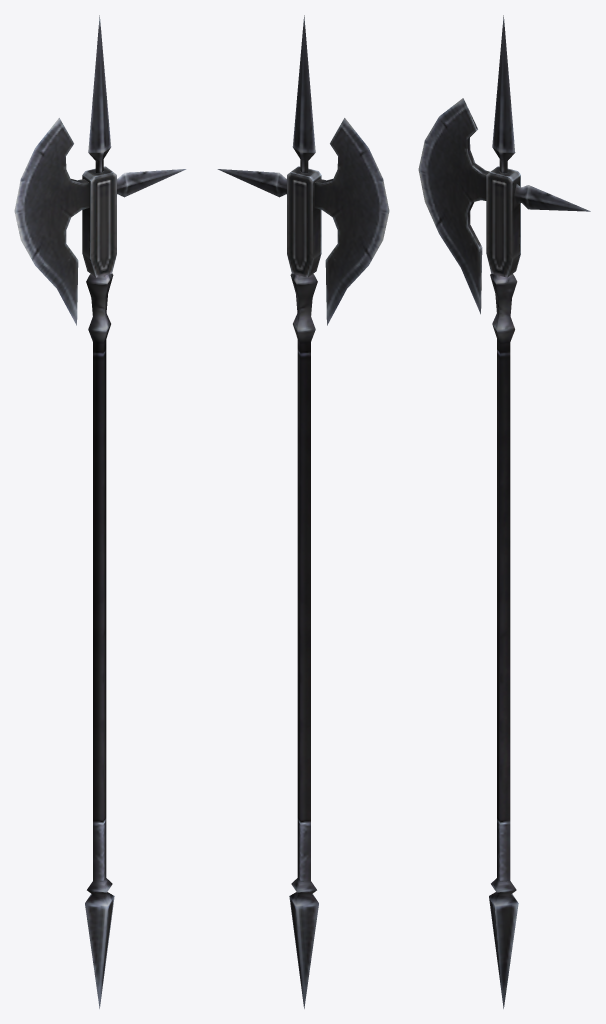
The model's file is Polearm06.FBX.
The picture shows the model from 3 angles, left to right: view 1: azimuth 30°, elevation 25°; view 2: azimuth 150°, elevation 25°; view 3: azimuth 330°, elevation 25°; orthographic projection.
Parts seen in each view (by area): view 1: Polearm06; view 2: Polearm06; view 3: Polearm06.
Boxes of the visible parts, left/top/right/bottom form: Polearm06: left=14, top=15, right=186, bottom=1008; Polearm06: left=217, top=15, right=389, bottom=1008; Polearm06: left=418, top=15, right=590, bottom=1008.
Bounding box in the file's own units: 44.49 × 245 × 7.41.
